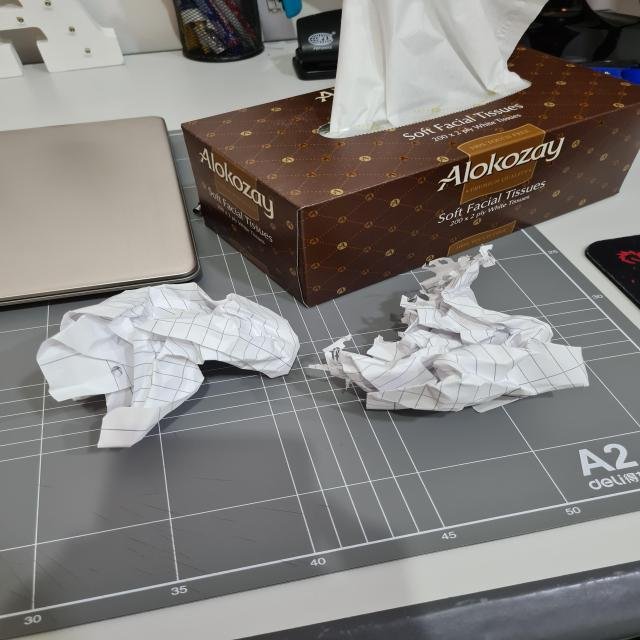paper: (324, 238, 594, 432), (32, 276, 296, 442)
